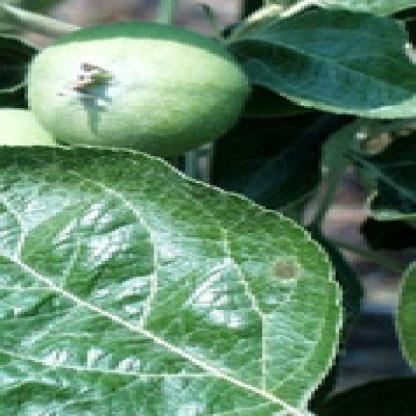apple scab leaf: (3, 139, 350, 414)
